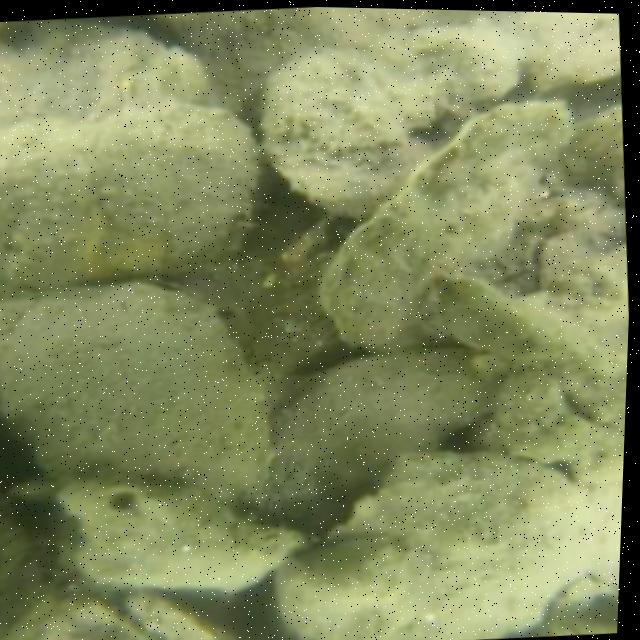Oyster-Indeterminate: (314, 105, 583, 345), (262, 463, 616, 640), (0, 281, 278, 505), (0, 93, 253, 292), (256, 335, 499, 520), (255, 20, 530, 155), (0, 21, 205, 129), (133, 586, 254, 640)
